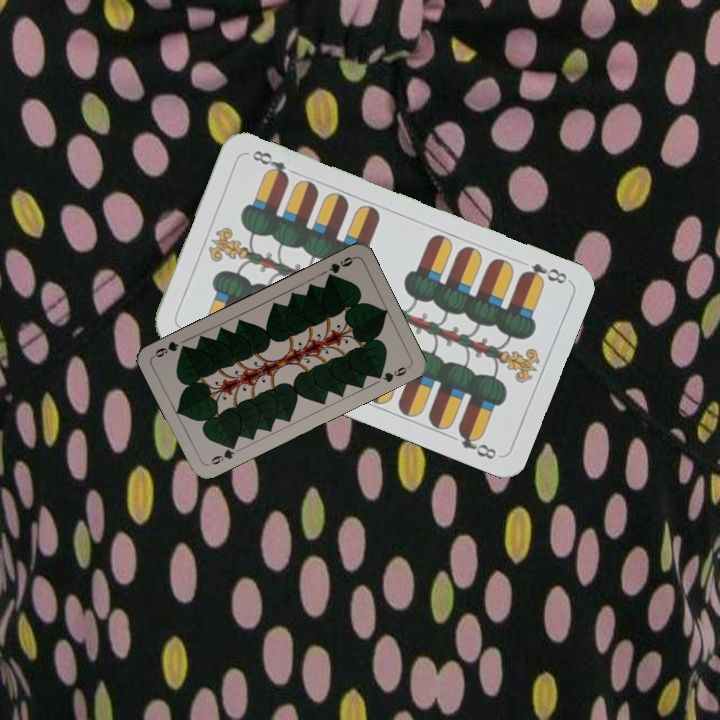E8: (517, 259, 570, 287)
G9: (323, 253, 358, 282), (207, 440, 239, 467)
